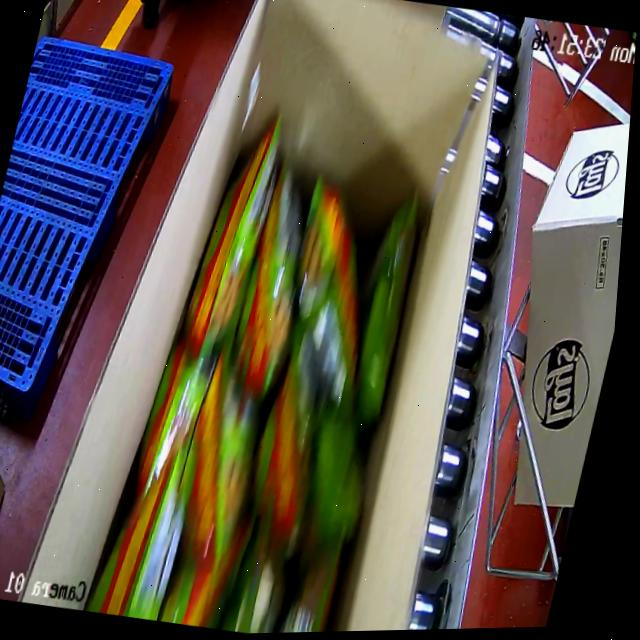YOGURT_HERB: (93, 100, 462, 637)
